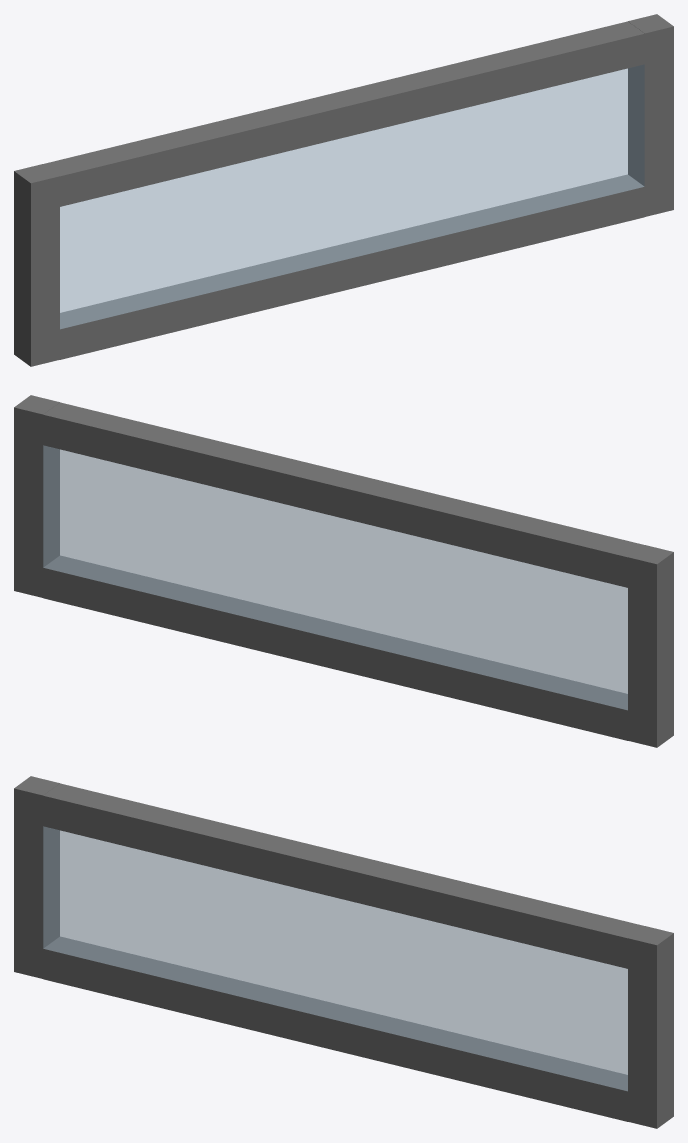
File: glass_wall_2.fbx
The picture shows the model from 3 angles, top to bottom: view 1: azimuth 30°, elevation 25°; view 2: azimuth 150°, elevation 25°; view 3: azimuth 330°, elevation 25°; orthographic projection.
Visible parts, largest first — view 1: glass, top, top.001, top.003, top.002; view 2: glass, top, top.001, top.003, top.002; view 3: glass, top, top.001, top.002, top.003.
Boxes of the visible parts, x1,y1,x2,y2 form: glass: (60, 64, 644, 329); top: (44, 21, 644, 206); top.001: (60, 174, 644, 359); top.003: (14, 164, 59, 366); top.002: (628, 14, 673, 216); glass: (43, 445, 627, 710); top: (43, 402, 643, 587); top.001: (43, 555, 627, 740); top.003: (628, 545, 673, 747); top.002: (14, 395, 59, 597); glass: (43, 826, 627, 1091); top: (43, 783, 643, 968); top.001: (43, 936, 627, 1121); top.002: (628, 926, 673, 1128); top.003: (14, 776, 59, 978).
Bounding box in the file's own units: 2200 × 601 × 100.
